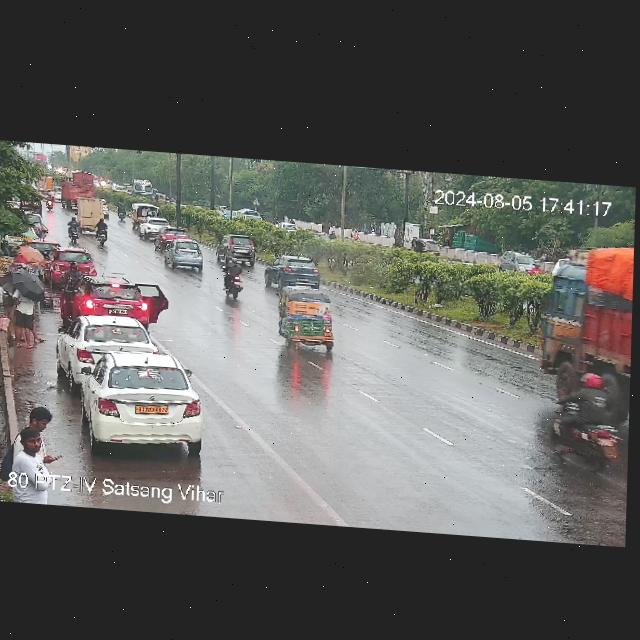car: (78, 350, 203, 454), (61, 312, 153, 381), (270, 285, 338, 355), (84, 275, 173, 327), (47, 243, 89, 283), (270, 254, 320, 285), (167, 240, 207, 273), (223, 233, 260, 262), (76, 197, 105, 232), (499, 250, 533, 277), (25, 237, 60, 260), (156, 226, 191, 247), (414, 235, 441, 259), (140, 215, 165, 238)
motorcycle: (548, 367, 624, 475), (222, 256, 247, 302), (61, 261, 81, 291), (67, 215, 80, 243), (97, 217, 108, 243), (351, 227, 361, 243)
person: (10, 282, 38, 347), (14, 432, 50, 473), (23, 405, 55, 430)
truck: (539, 241, 634, 415)
